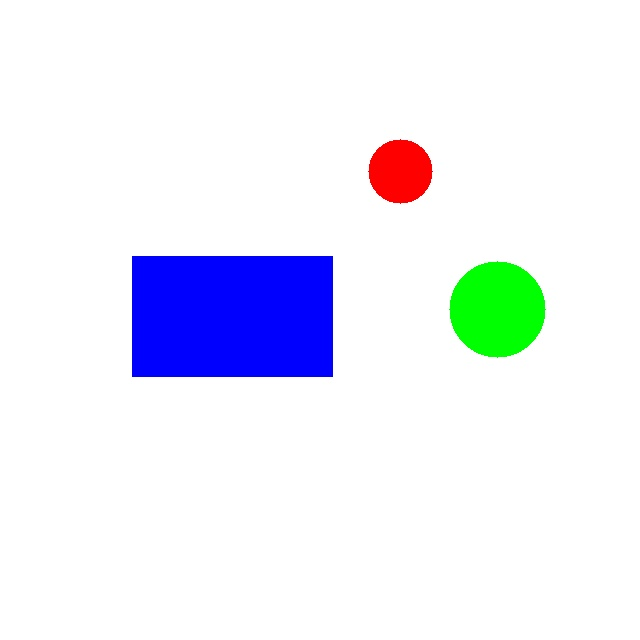cartao: (132, 256, 332, 376)
rosca_externa: (449, 261, 545, 357)
rosca_interna: (368, 139, 432, 203)
